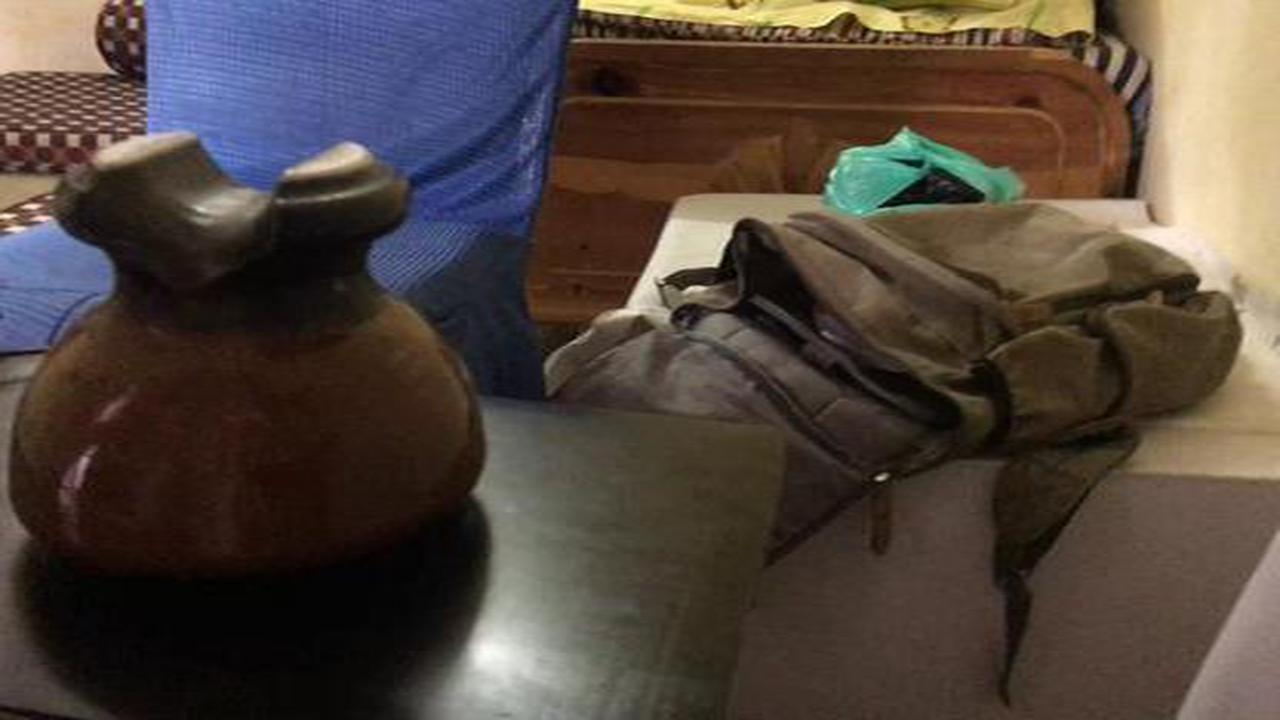insulator_pin: (11, 123, 511, 599)
